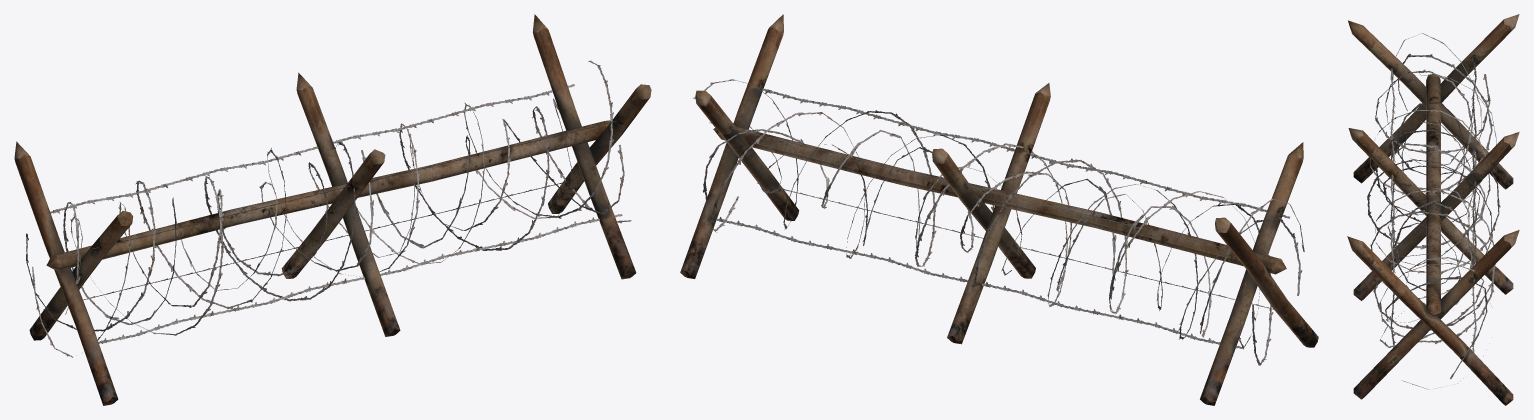
File: barbed-barrier.lod0.glb
3 renders of one model, left to right at view 1: azimuth 30°, elevation 25°; view 2: azimuth 150°, elevation 25°; view 3: azimuth 270°, elevation 25°, orthographic. The views are drawn at different scales.
Parts seen in each view (by area): view 1: object_0_object_0_0; view 2: object_0_object_0_0; view 3: object_0_object_0_0.
Boxes of the visible parts, bbox=[...] form: object_0_object_0_0: bbox=[14, 14, 651, 405]; object_0_object_0_0: bbox=[680, 14, 1318, 405]; object_0_object_0_0: bbox=[1347, 14, 1519, 405].
Bounding box in the file's own units: 5.16 × 1.69 × 1.57.
Materials: 1 (1 with a texture image).
